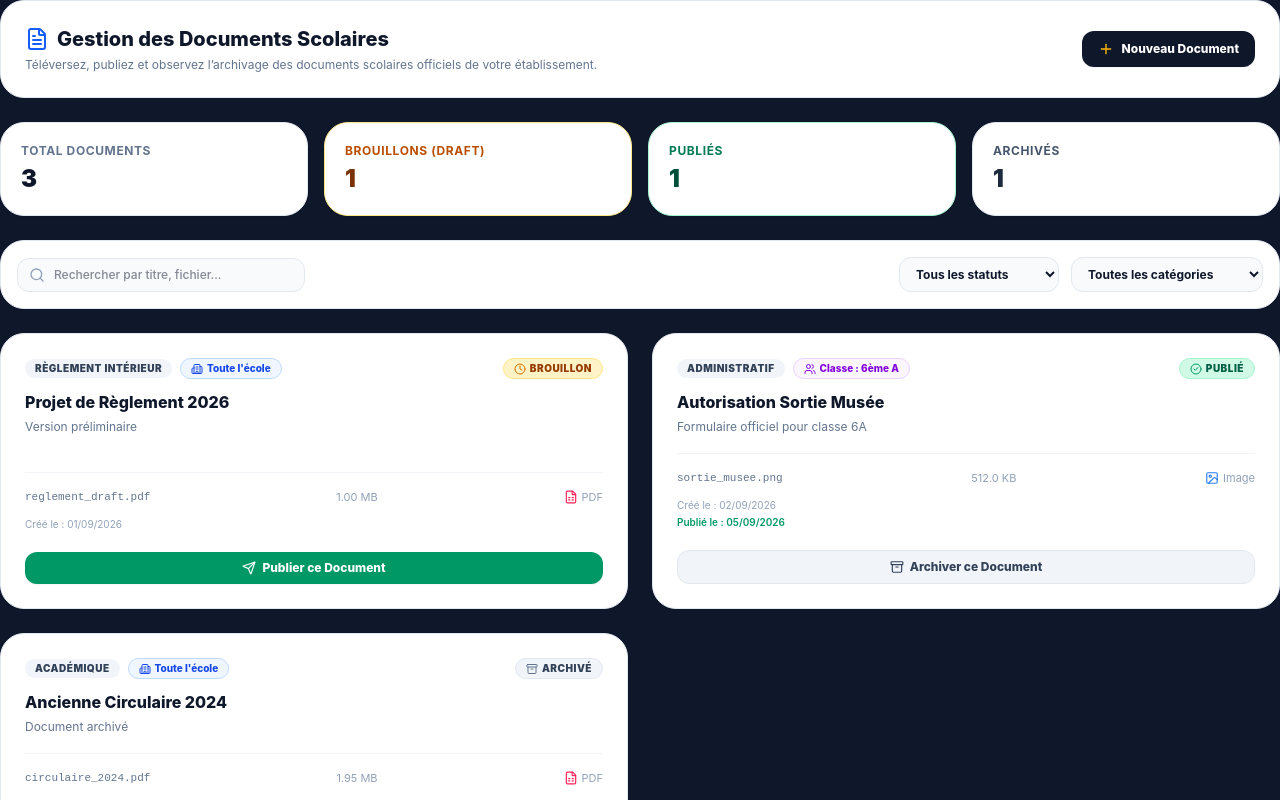
AdminSchoolDocumentsModule › 10. effectue la recherche locale par titre
Expected: the heading "Projet de Règlement 2026" is shown, [25,392,229,412]
Type "Musée" into the field with placeholder "Rechercher par titre, fichier..." at (161, 274), box [17,258,305,292]
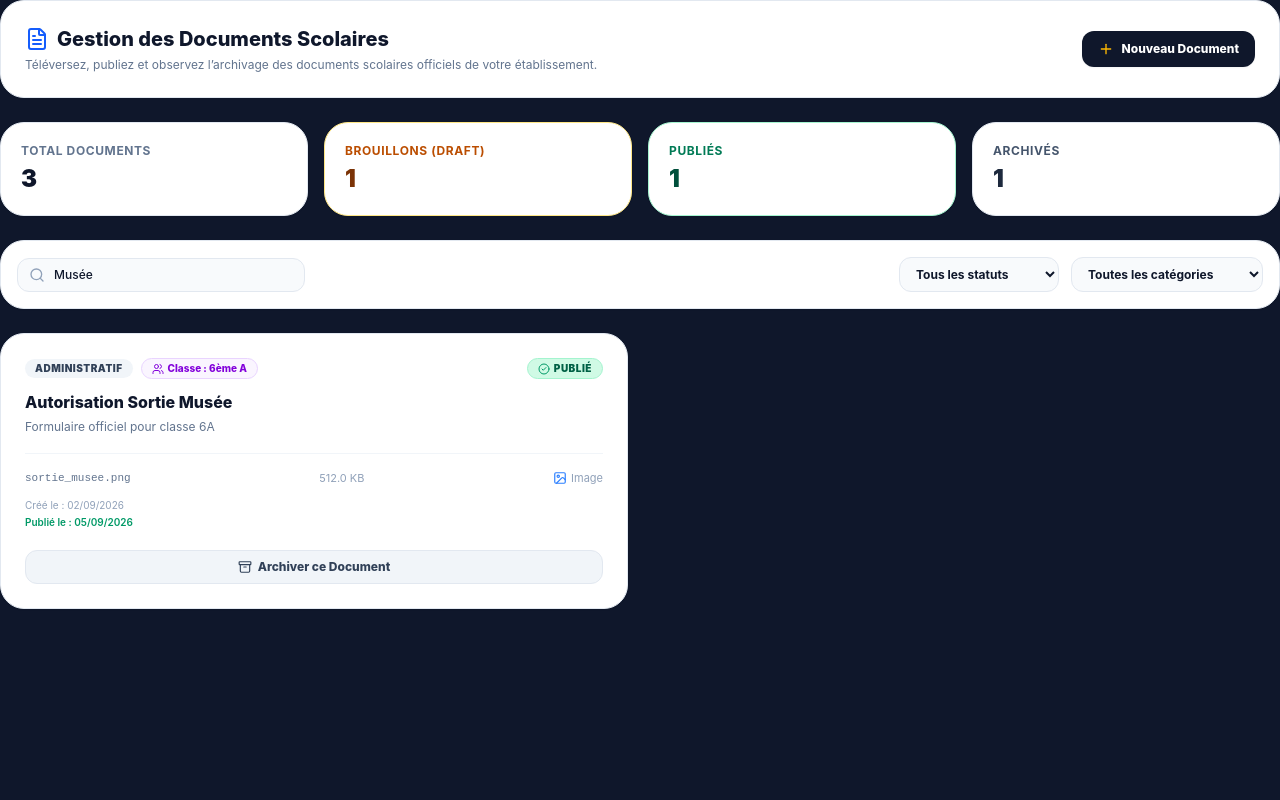
Expected: the heading "Autorisation Sortie Musée" is shown, [25,392,232,412]
Expected: the heading "Projet de Règlement 2026" is gone
